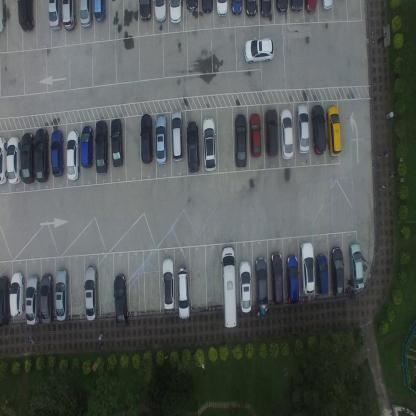car: (221, 245, 238, 328), (299, 240, 316, 296), (113, 274, 129, 330), (84, 264, 99, 322), (34, 128, 50, 182), (176, 267, 192, 319), (310, 104, 326, 156), (326, 105, 342, 157), (202, 117, 217, 172), (39, 273, 55, 324), (328, 246, 344, 297), (185, 119, 200, 173), (244, 37, 274, 64), (20, 132, 35, 185), (94, 120, 108, 176), (348, 240, 364, 289), (254, 257, 269, 309), (279, 108, 294, 160), (25, 274, 40, 326), (55, 267, 69, 322), (161, 258, 176, 309), (170, 108, 184, 162), (238, 261, 252, 314), (295, 102, 309, 155), (6, 136, 21, 185), (154, 113, 168, 165), (66, 130, 80, 182), (285, 254, 299, 306), (234, 113, 247, 168), (110, 117, 124, 168), (9, 270, 24, 316), (271, 252, 284, 305), (140, 112, 153, 164), (265, 108, 278, 157), (51, 128, 64, 177), (16, 0, 35, 33), (0, 273, 11, 327), (315, 254, 329, 296), (249, 112, 262, 157), (81, 125, 94, 169), (47, 0, 62, 34), (79, 0, 94, 29), (62, 0, 76, 31), (168, 0, 182, 25), (153, 0, 167, 23), (0, 135, 6, 186), (139, 0, 152, 23), (94, 0, 107, 23), (259, 0, 272, 20), (215, 0, 229, 18), (0, 0, 7, 35), (303, 0, 318, 16), (244, 0, 256, 17), (231, 0, 242, 18), (289, 0, 303, 14), (185, 0, 199, 14), (275, 0, 288, 15), (201, 0, 214, 15), (321, 0, 333, 13)
